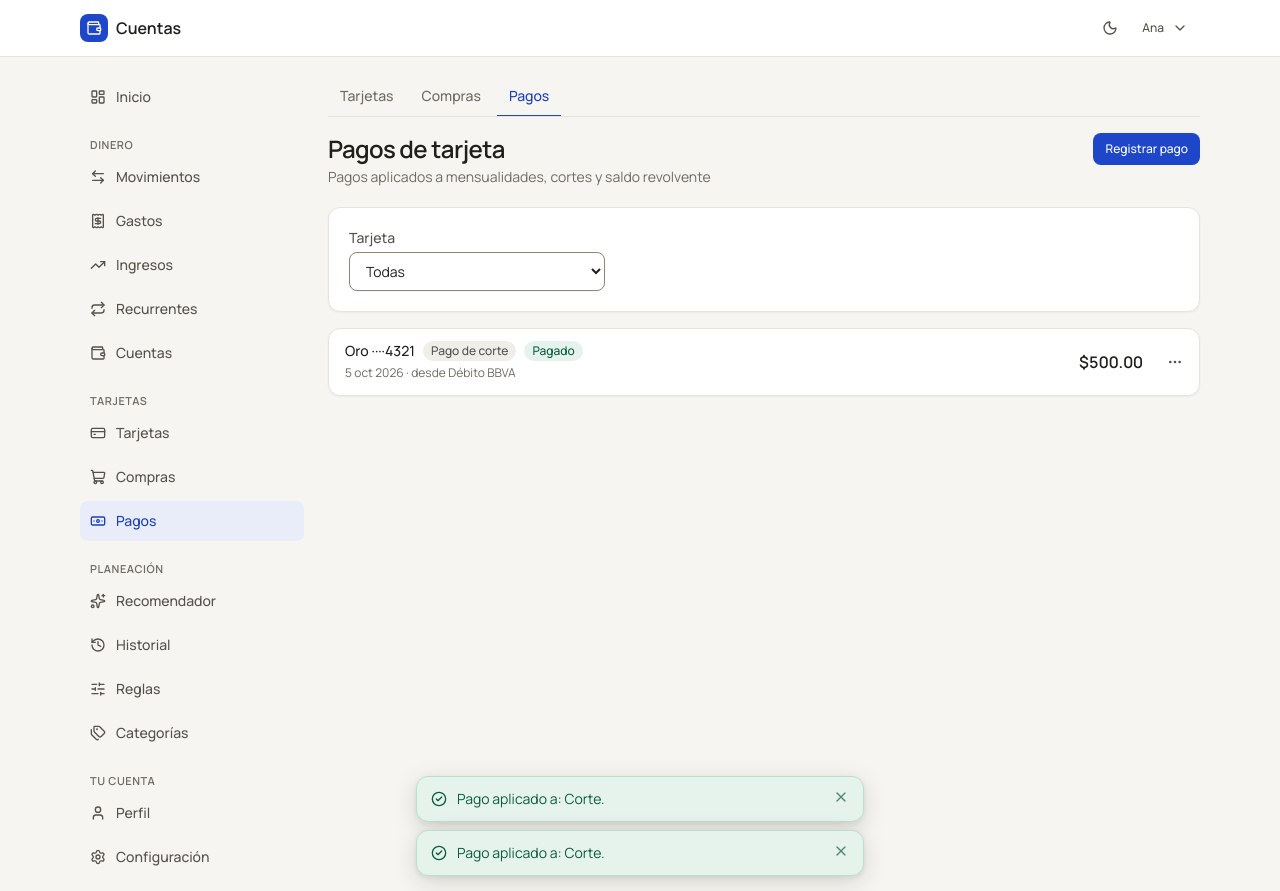
Scenario: pagos de tarjeta › sin corte pendiente solo ofrece el saldo total
Click the button "Registrar pago".
click(1147, 149)  # box [1094,133,1200,165]
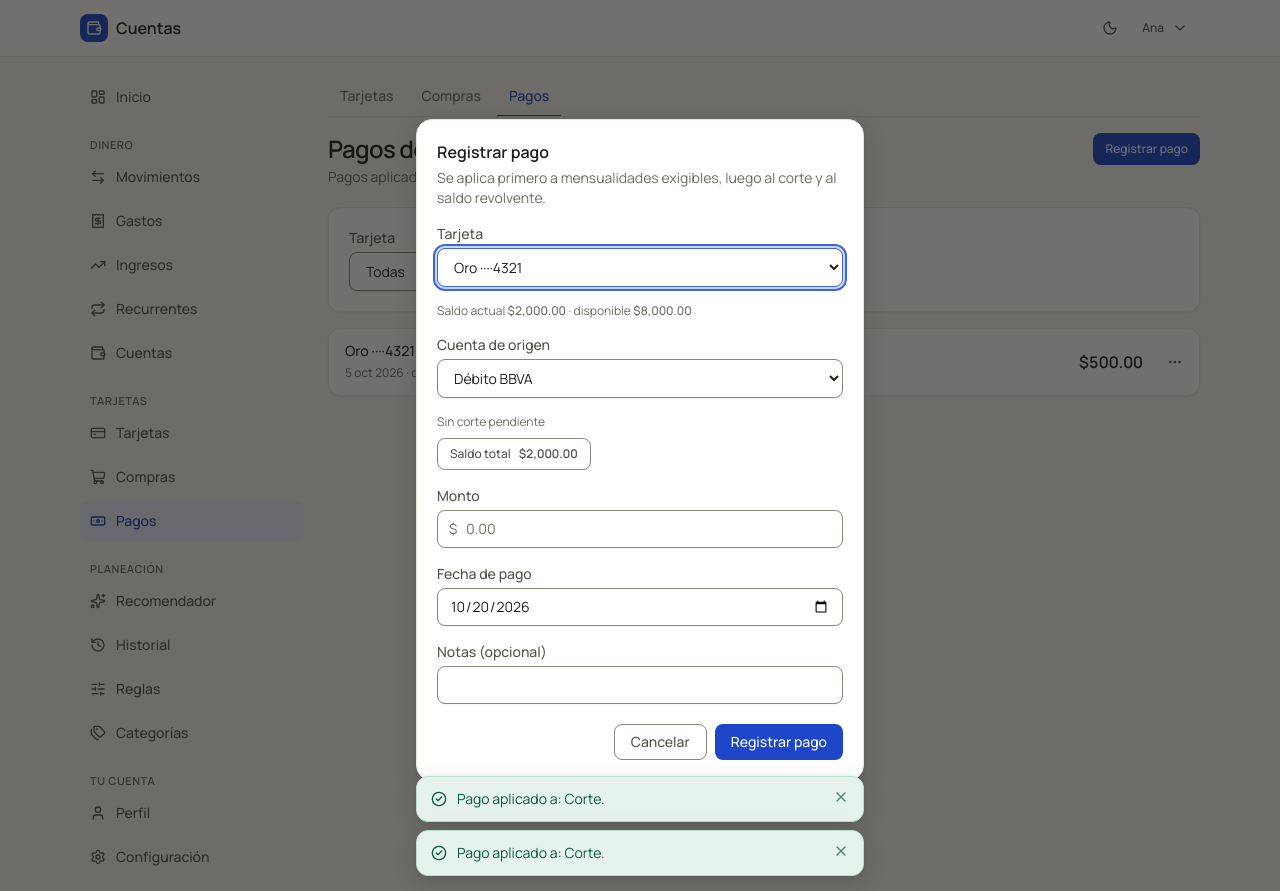
Result: the text "Sin corte pendiente" is shown at [437,413,545,430]
Result: the button "Saldo total $2,000.00" is shown at [437,438,591,470]
